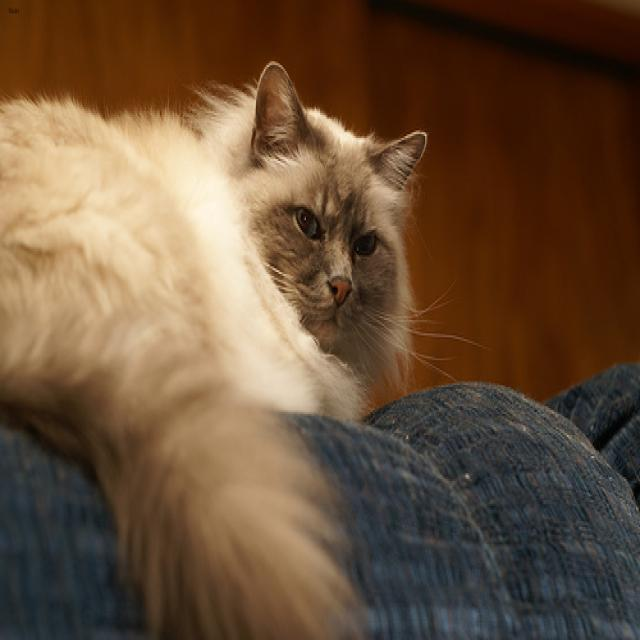Birman: (216, 59, 434, 384)
